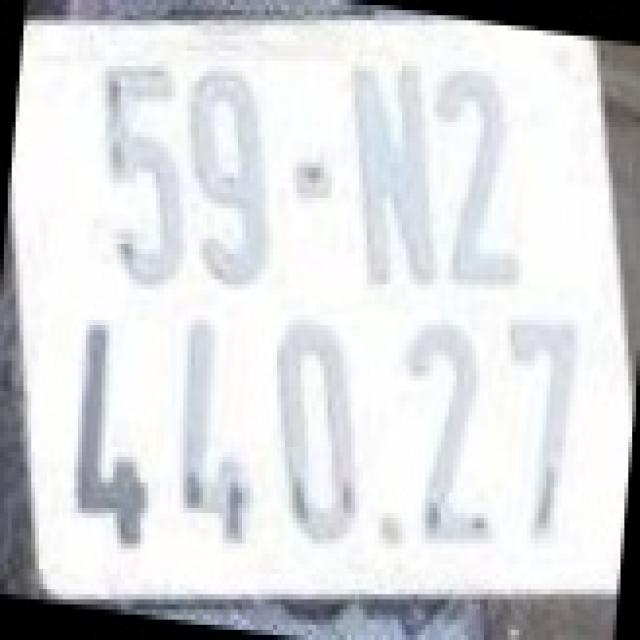0: (269, 315, 363, 548)
2: (398, 315, 496, 548), (433, 66, 527, 295)
4: (66, 315, 156, 554), (168, 315, 254, 554)
5: (98, 61, 188, 289)
7: (499, 315, 582, 543)
9: (187, 61, 273, 289)
N: (345, 59, 439, 297)
